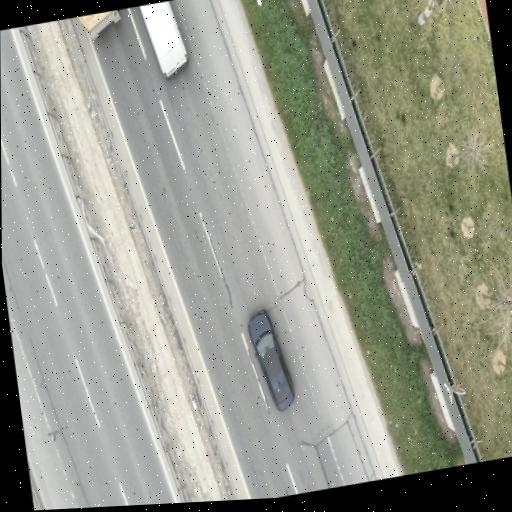car: (249, 310, 294, 411)
truck: (140, 1, 189, 77), (78, 10, 120, 38)
